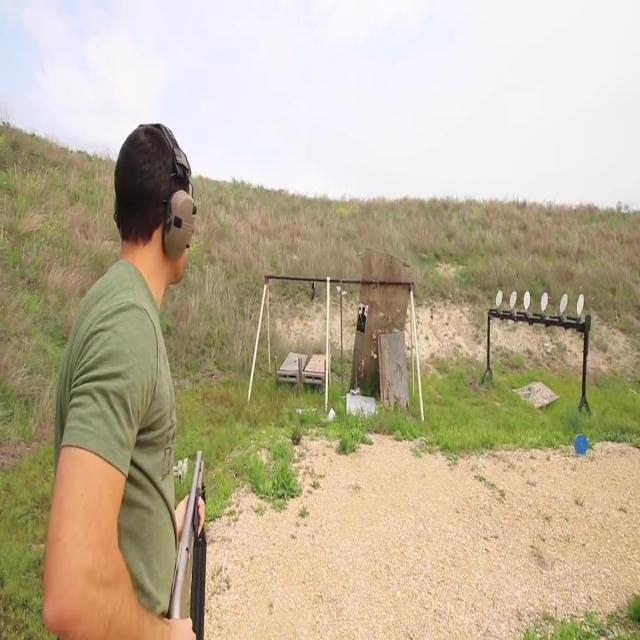Weapon: (154, 432, 236, 640)
